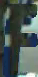Parking: (2, 2, 36, 76)
